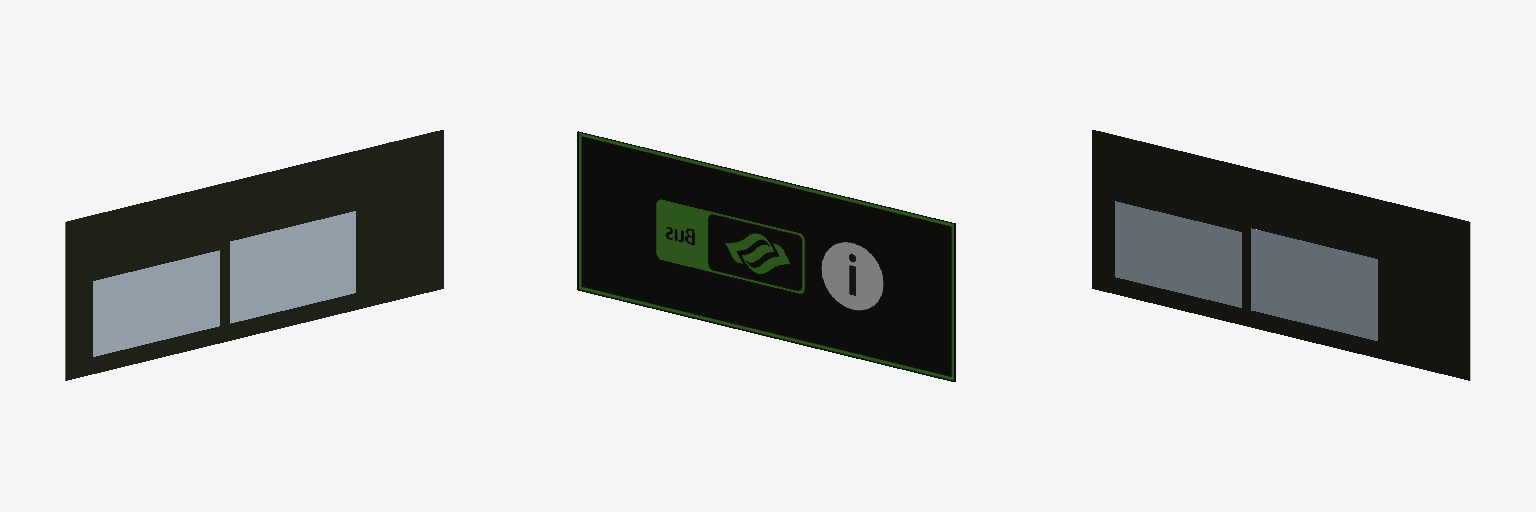
The picture shows the model from 3 angles: view 1: azimuth 30°, elevation 25°; view 2: azimuth 150°, elevation 25°; view 3: azimuth 330°, elevation 25°; orthographic projection.
Visible parts, largest first — view 1: Mesh3 Group3 Model, Mesh1 Group1 Model, Mesh2 Group2 Model; view 2: Mesh3 Group3 Model; view 3: Mesh3 Group3 Model, Mesh1 Group1 Model, Mesh2 Group2 Model.
Boxes of the visible parts, <box> form: Mesh3 Group3 Model: <box>65,129,443,380</box>; Mesh1 Group1 Model: <box>230,211,355,323</box>; Mesh2 Group2 Model: <box>93,250,219,356</box>; Mesh3 Group3 Model: <box>577,131,955,382</box>; Mesh3 Group3 Model: <box>1092,129,1470,380</box>; Mesh1 Group1 Model: <box>1251,228,1377,340</box>; Mesh2 Group2 Model: <box>1115,201,1241,307</box>.
Bounding box in the file's own units: 1.84 × 0.7407 × 0.022.
8 materials, 3 textured.